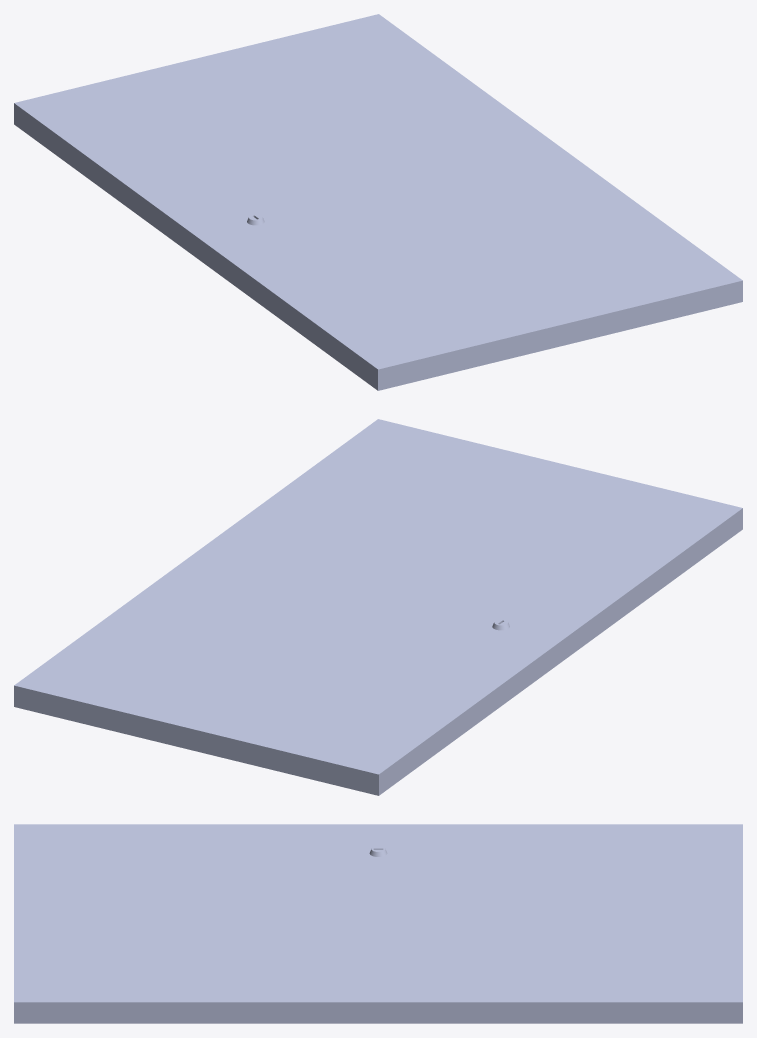
Rendered from Door 1 Door base cabinet - 20in..fbx.
The picture shows the model from 3 angles, top to bottom: view 1: azimuth 30°, elevation 25°; view 2: azimuth 150°, elevation 25°; view 3: azimuth 270°, elevation 25°; orthographic projection.
Visible parts, largest first — view 1: Body_1; view 2: Body_1; view 3: Body_1.
Part boxes in pixels (box(x1,y1,x2,y2)): Body_1: box(14, 14, 742, 390); Body_1: box(14, 419, 742, 795); Body_1: box(14, 824, 742, 1023).
Size of the model in its own units: 0.4532 by 0.7834 by 0.0305.
